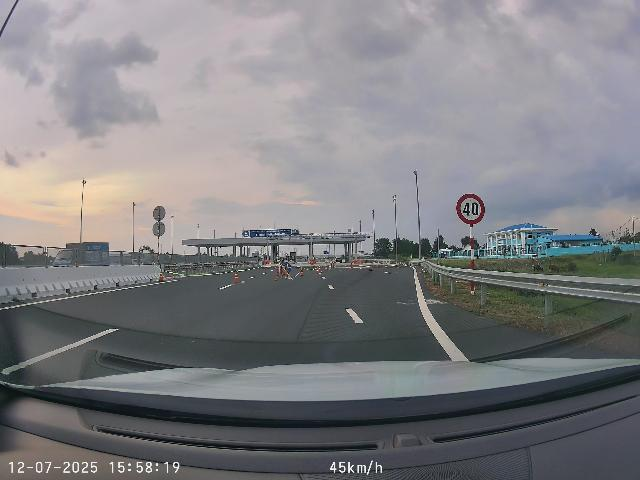127-toc-do-toi-da-40: (456, 193, 485, 225)
